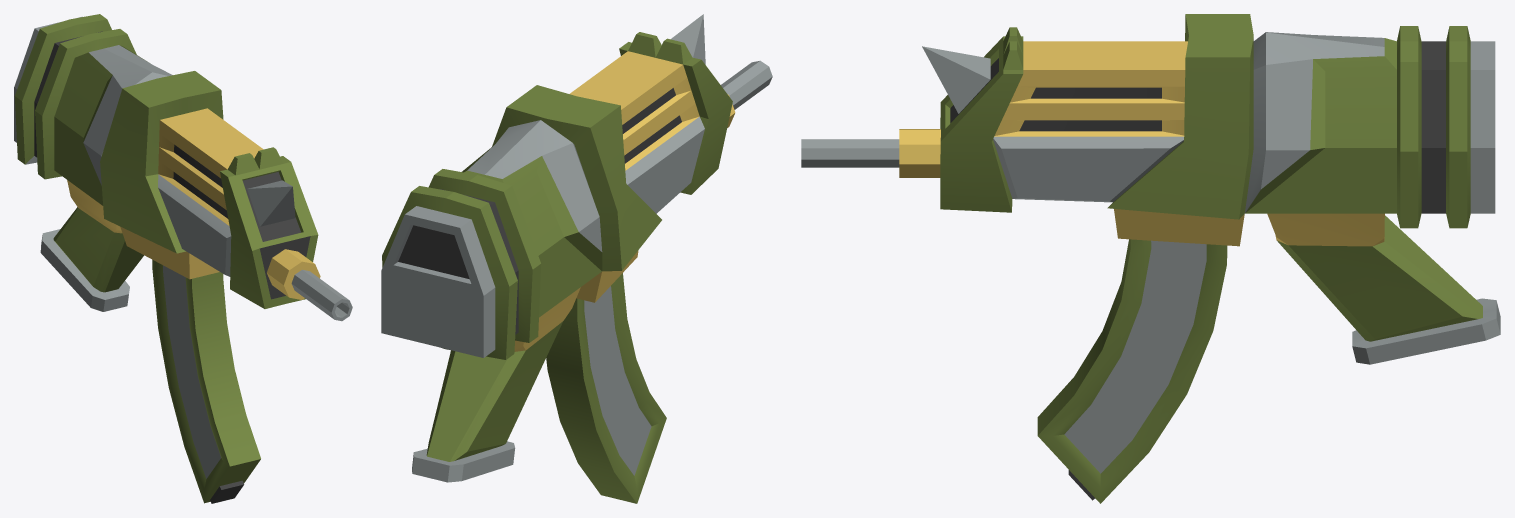
The model's file is Gun-5.fbx.
The picture shows the model from 3 angles, left to right: view 1: azimuth 30°, elevation 25°; view 2: azimuth 150°, elevation 25°; view 3: azimuth 270°, elevation 25°; orthographic projection. The views are drawn at different scales.
Visible parts, largest first — view 1: Gun_5; view 2: Gun_5; view 3: Gun_5.
Boxes of the visible parts, x1,y1,x2,y2 form: Gun_5: [14, 14, 352, 503]; Gun_5: [381, 14, 772, 503]; Gun_5: [801, 14, 1500, 503].
Bounding box in the file's own units: 52.55 × 160 × 220.
